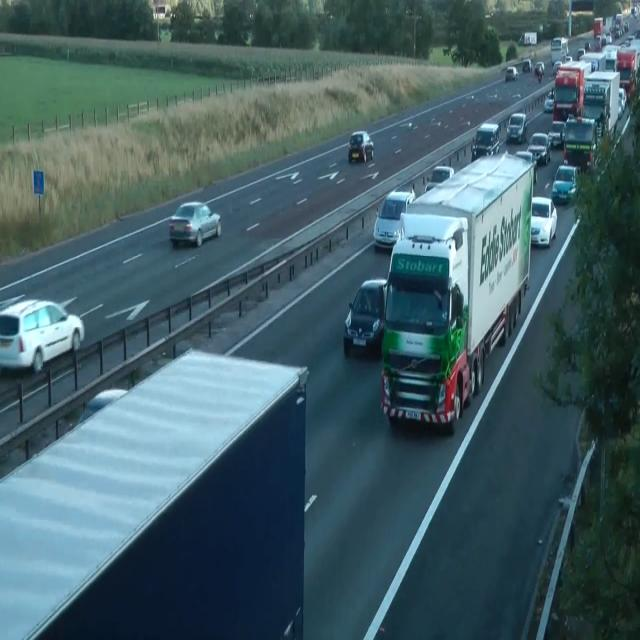bus: (0, 296, 84, 373), (343, 278, 387, 356), (373, 188, 415, 250), (168, 200, 221, 247), (530, 196, 557, 248), (552, 163, 580, 204), (471, 123, 499, 161), (348, 130, 374, 164), (424, 165, 454, 194), (515, 150, 537, 186), (547, 120, 565, 148), (544, 87, 554, 113), (618, 87, 626, 119), (534, 61, 544, 82), (505, 66, 518, 82), (522, 59, 532, 73), (577, 48, 585, 60), (605, 34, 611, 44)
jeep: (563, 115, 597, 172), (527, 132, 551, 164), (506, 111, 526, 143)
minibus: (0, 346, 309, 639), (380, 149, 536, 431), (582, 70, 620, 140), (552, 59, 592, 122), (550, 36, 568, 66), (152, 3, 171, 20), (517, 31, 537, 45)
